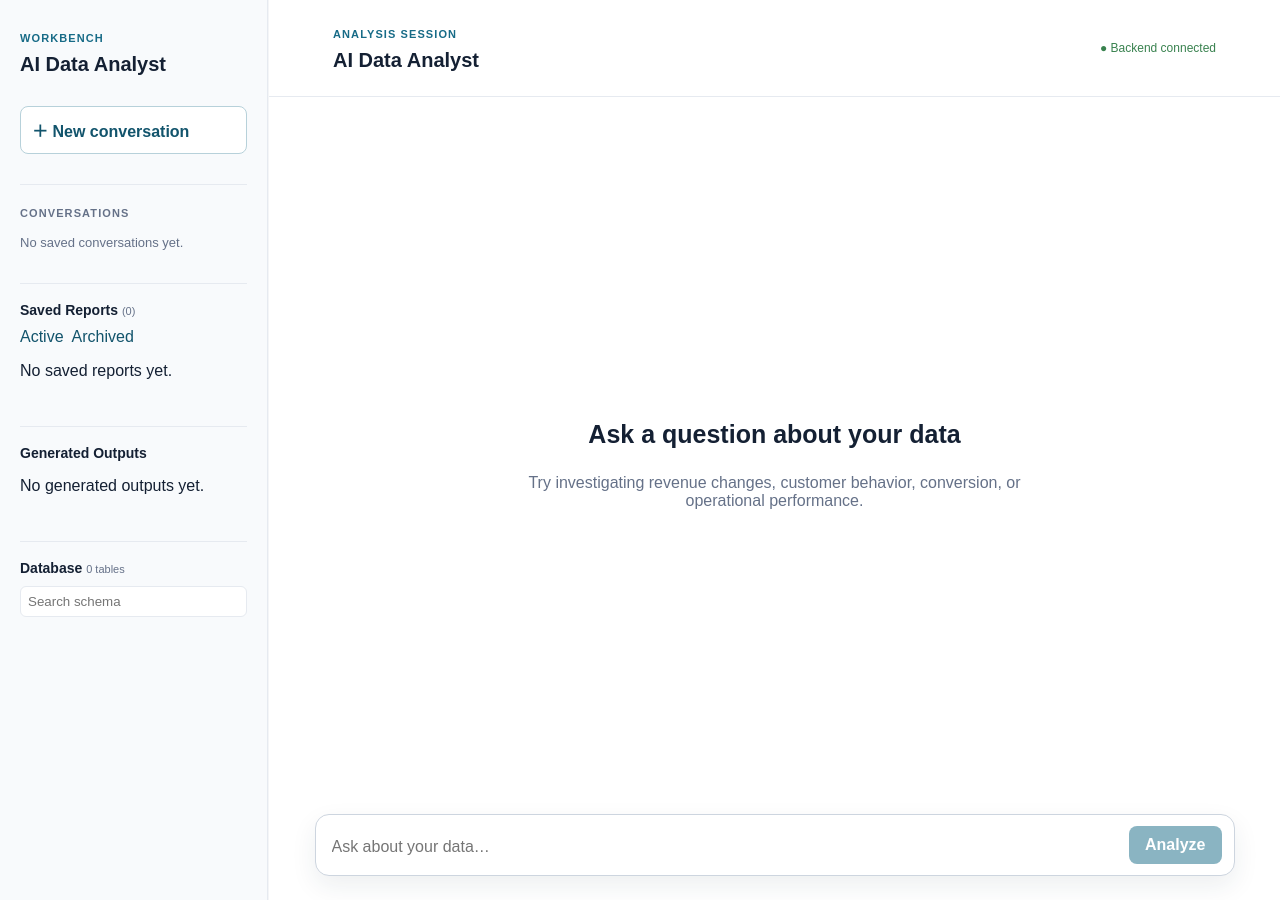
it: Workbench › renders completed assistant response after the completion event
Type "Analyze revenue" into the text box labelled "Ask about your data" at (724, 846), box [332, 829, 1117, 864]
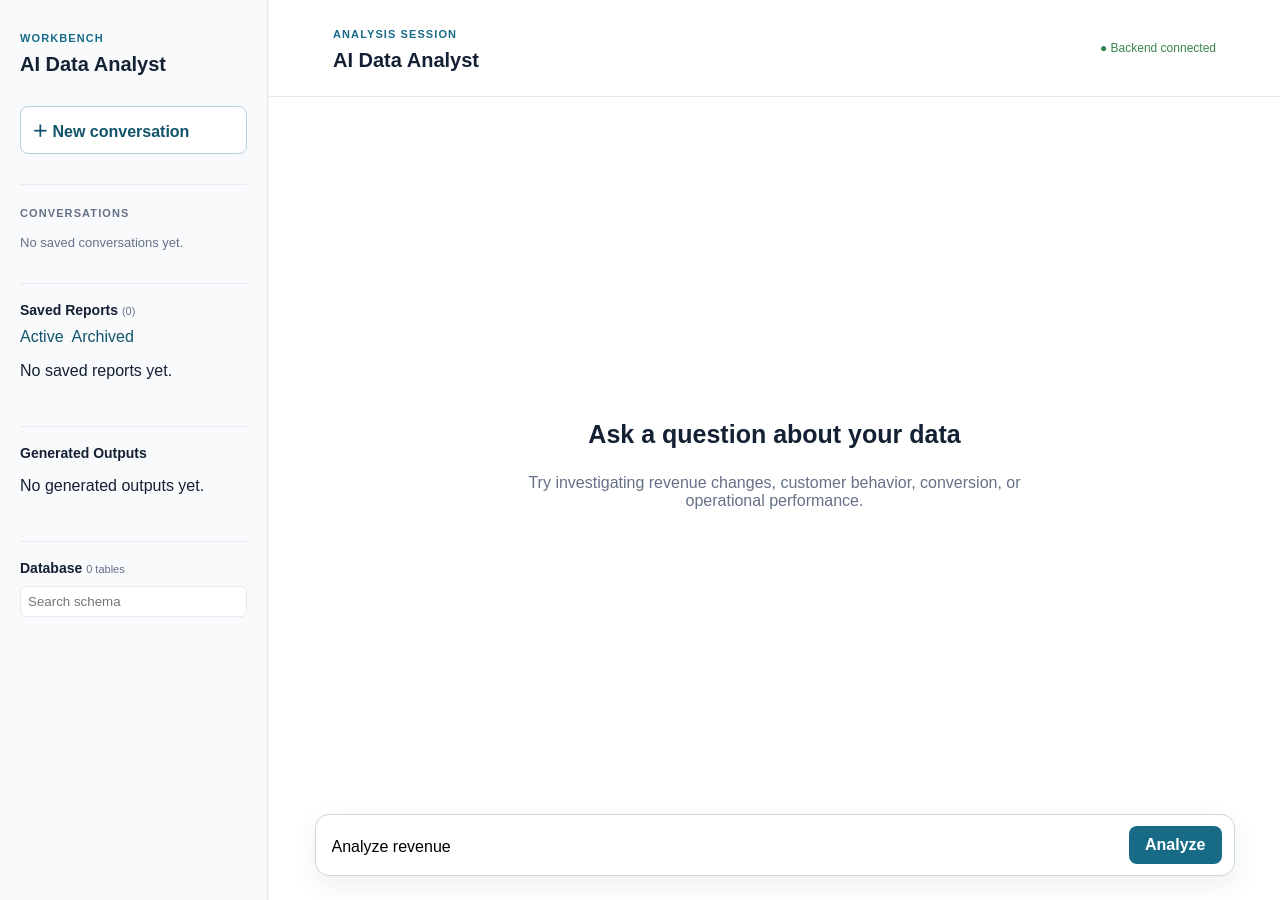
Click the button "Analyze" at (1175, 845), box [1129, 826, 1222, 864]
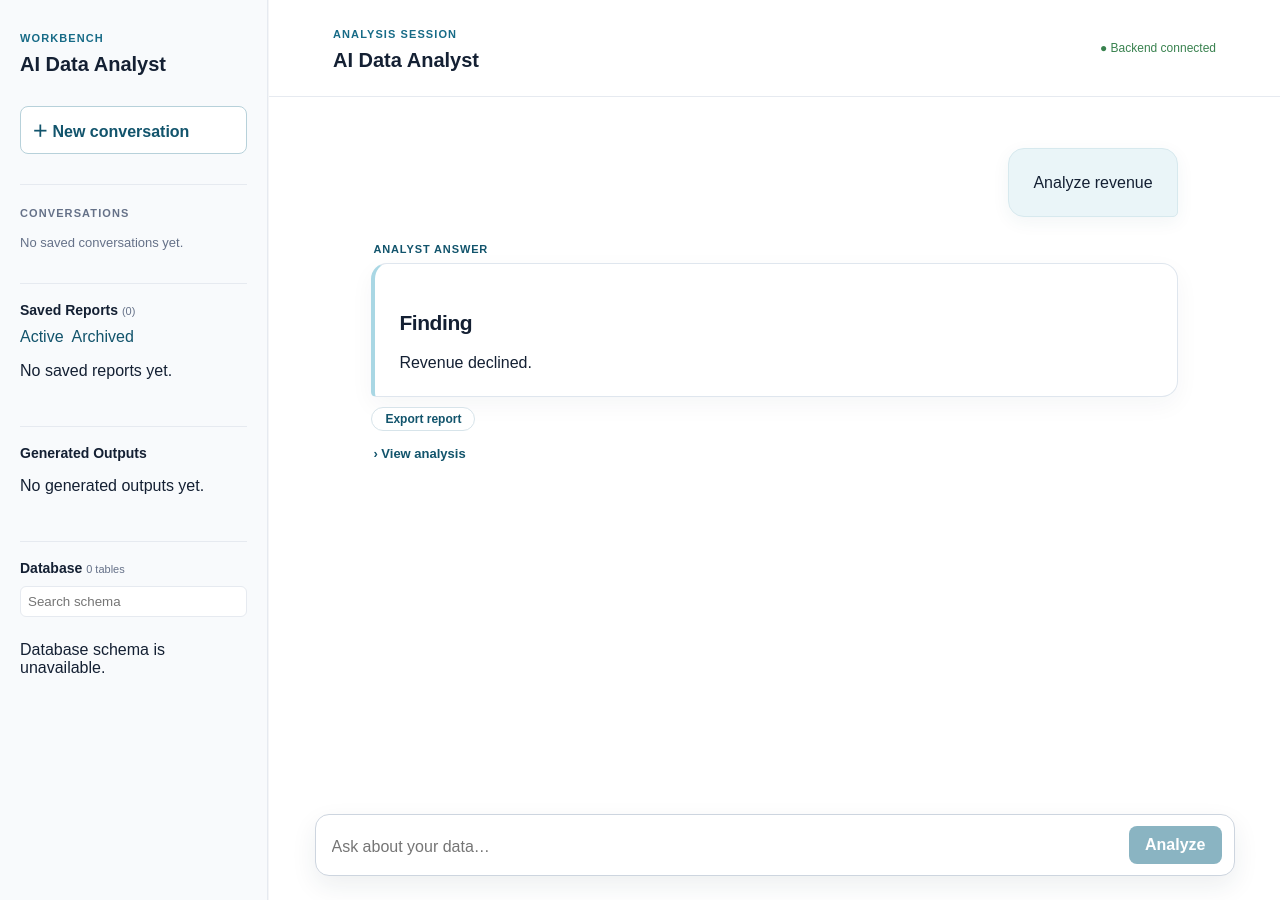
Check: the heading "Finding" is shown, box [399, 311, 472, 334]
Check: the text "Revenue declined." is shown once, box [399, 354, 532, 371]
